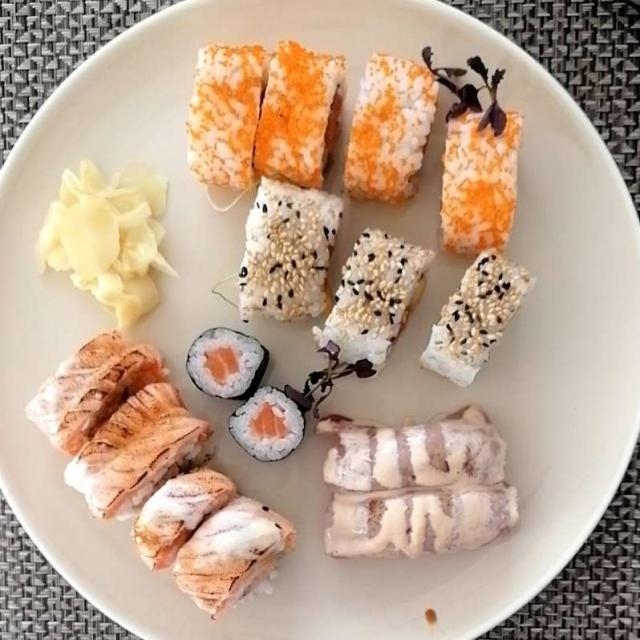sushi: (33, 45, 546, 619)
